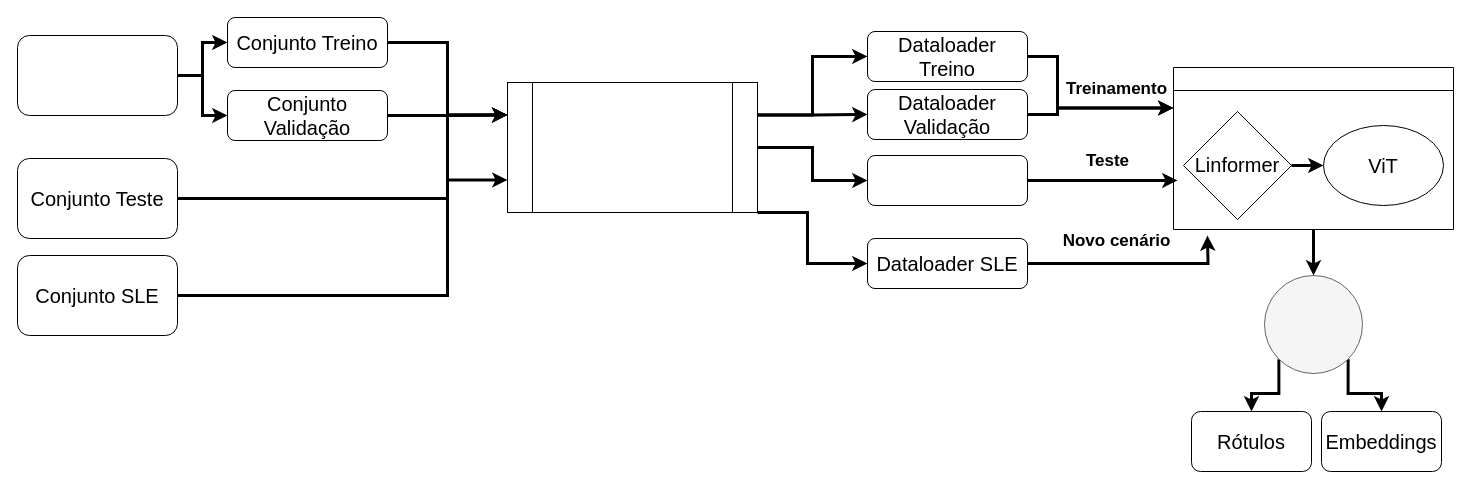
Some shapes in this 1471 by 489 pixel diagram are drawn without their labels. Each missing label, with the centre of its shape:
"Conjunto Base" goes at point (97, 75).
"Dataloader Teste" goes at point (947, 180).
"Extractor" goes at point (1313, 324).
"Modelo" goes at point (1313, 148).
"Pré-processamento" goes at point (632, 147).
